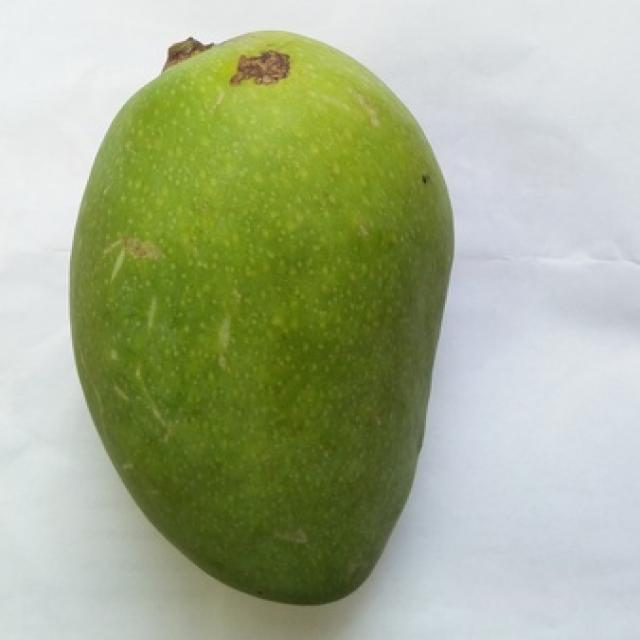Mango: (70, 31, 453, 602)
